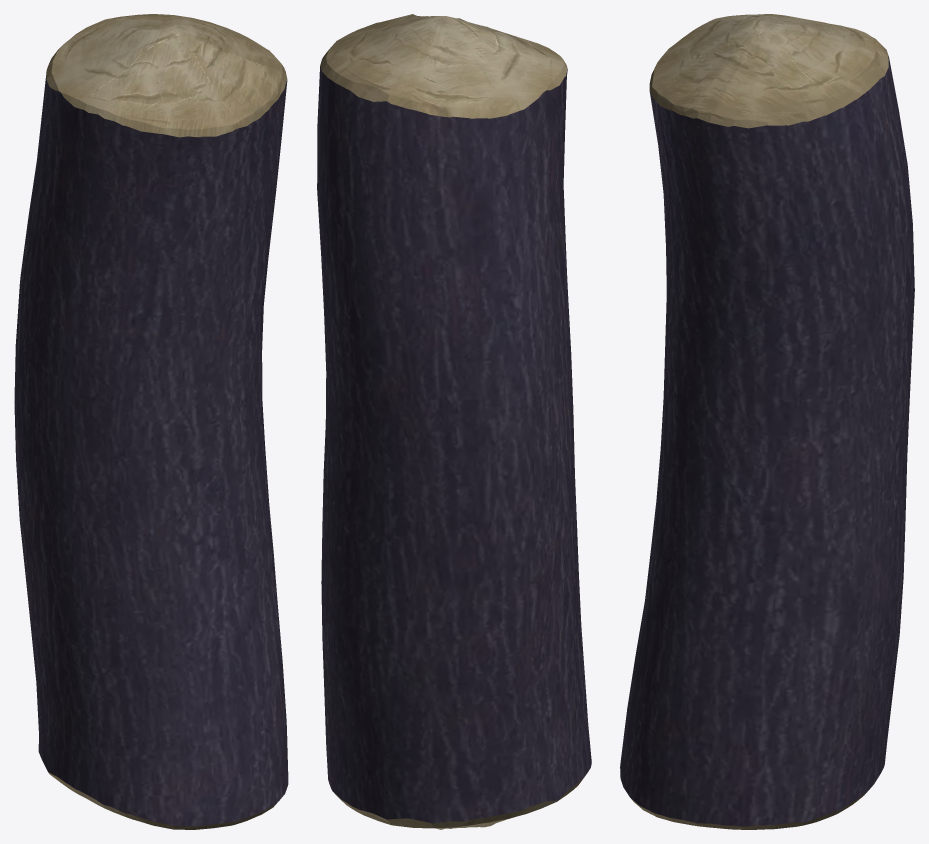
The picture shows the model from 3 angles, left to right: view 1: azimuth 30°, elevation 25°; view 2: azimuth 150°, elevation 25°; view 3: azimuth 270°, elevation 25°; orthographic projection. The views are drawn at different scales.
Visible parts, largest first — view 1: SM_FH_Oak_Tree_02_quarter_04_LOD0; view 2: SM_FH_Oak_Tree_02_quarter_04_LOD0; view 3: SM_FH_Oak_Tree_02_quarter_04_LOD0.
Boxes of the visible parts, x1,y1,x2,y2 form: SM_FH_Oak_Tree_02_quarter_04_LOD0: (14,14,288,829); SM_FH_Oak_Tree_02_quarter_04_LOD0: (317,14,591,829); SM_FH_Oak_Tree_02_quarter_04_LOD0: (620,14,914,829).
Bounding box in the file's own units: 0.9217 × 3.05 × 1.02.
Materials: 1 (1 with a texture image).
